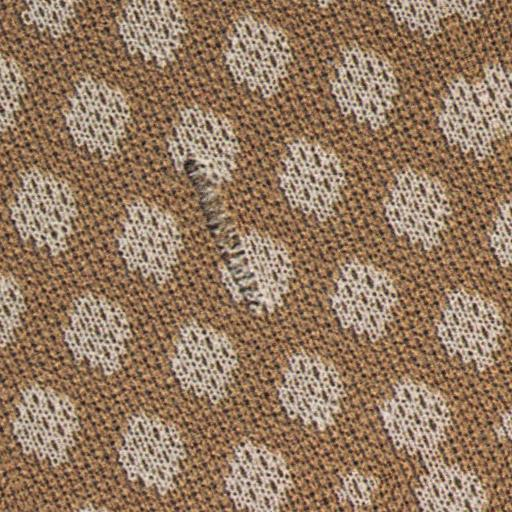slub: (171, 145, 280, 319)
